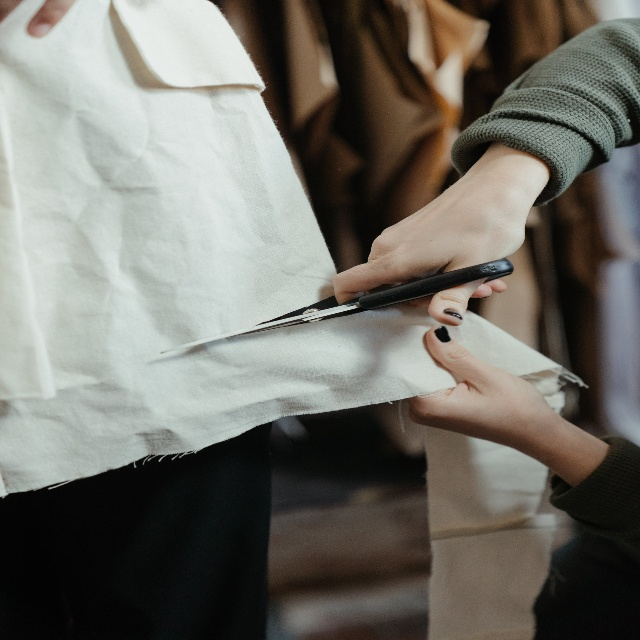Sin_guantes: (331, 155, 530, 326), (407, 322, 559, 463)
